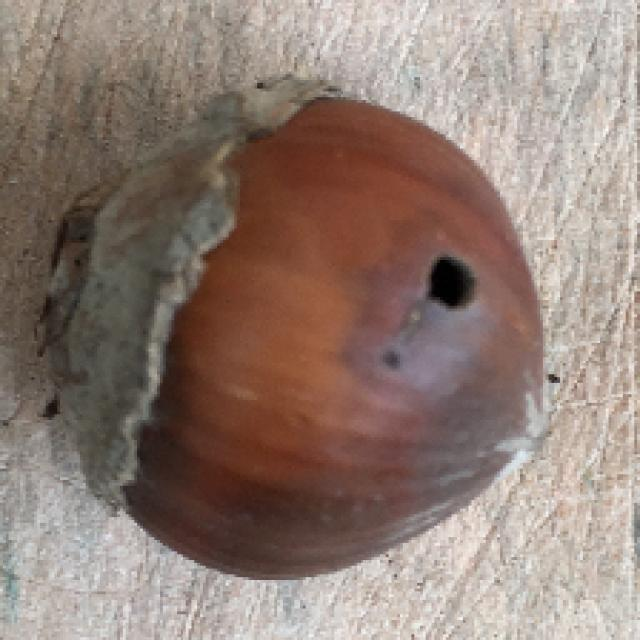damagedHazelnut: (35, 52, 554, 587)
